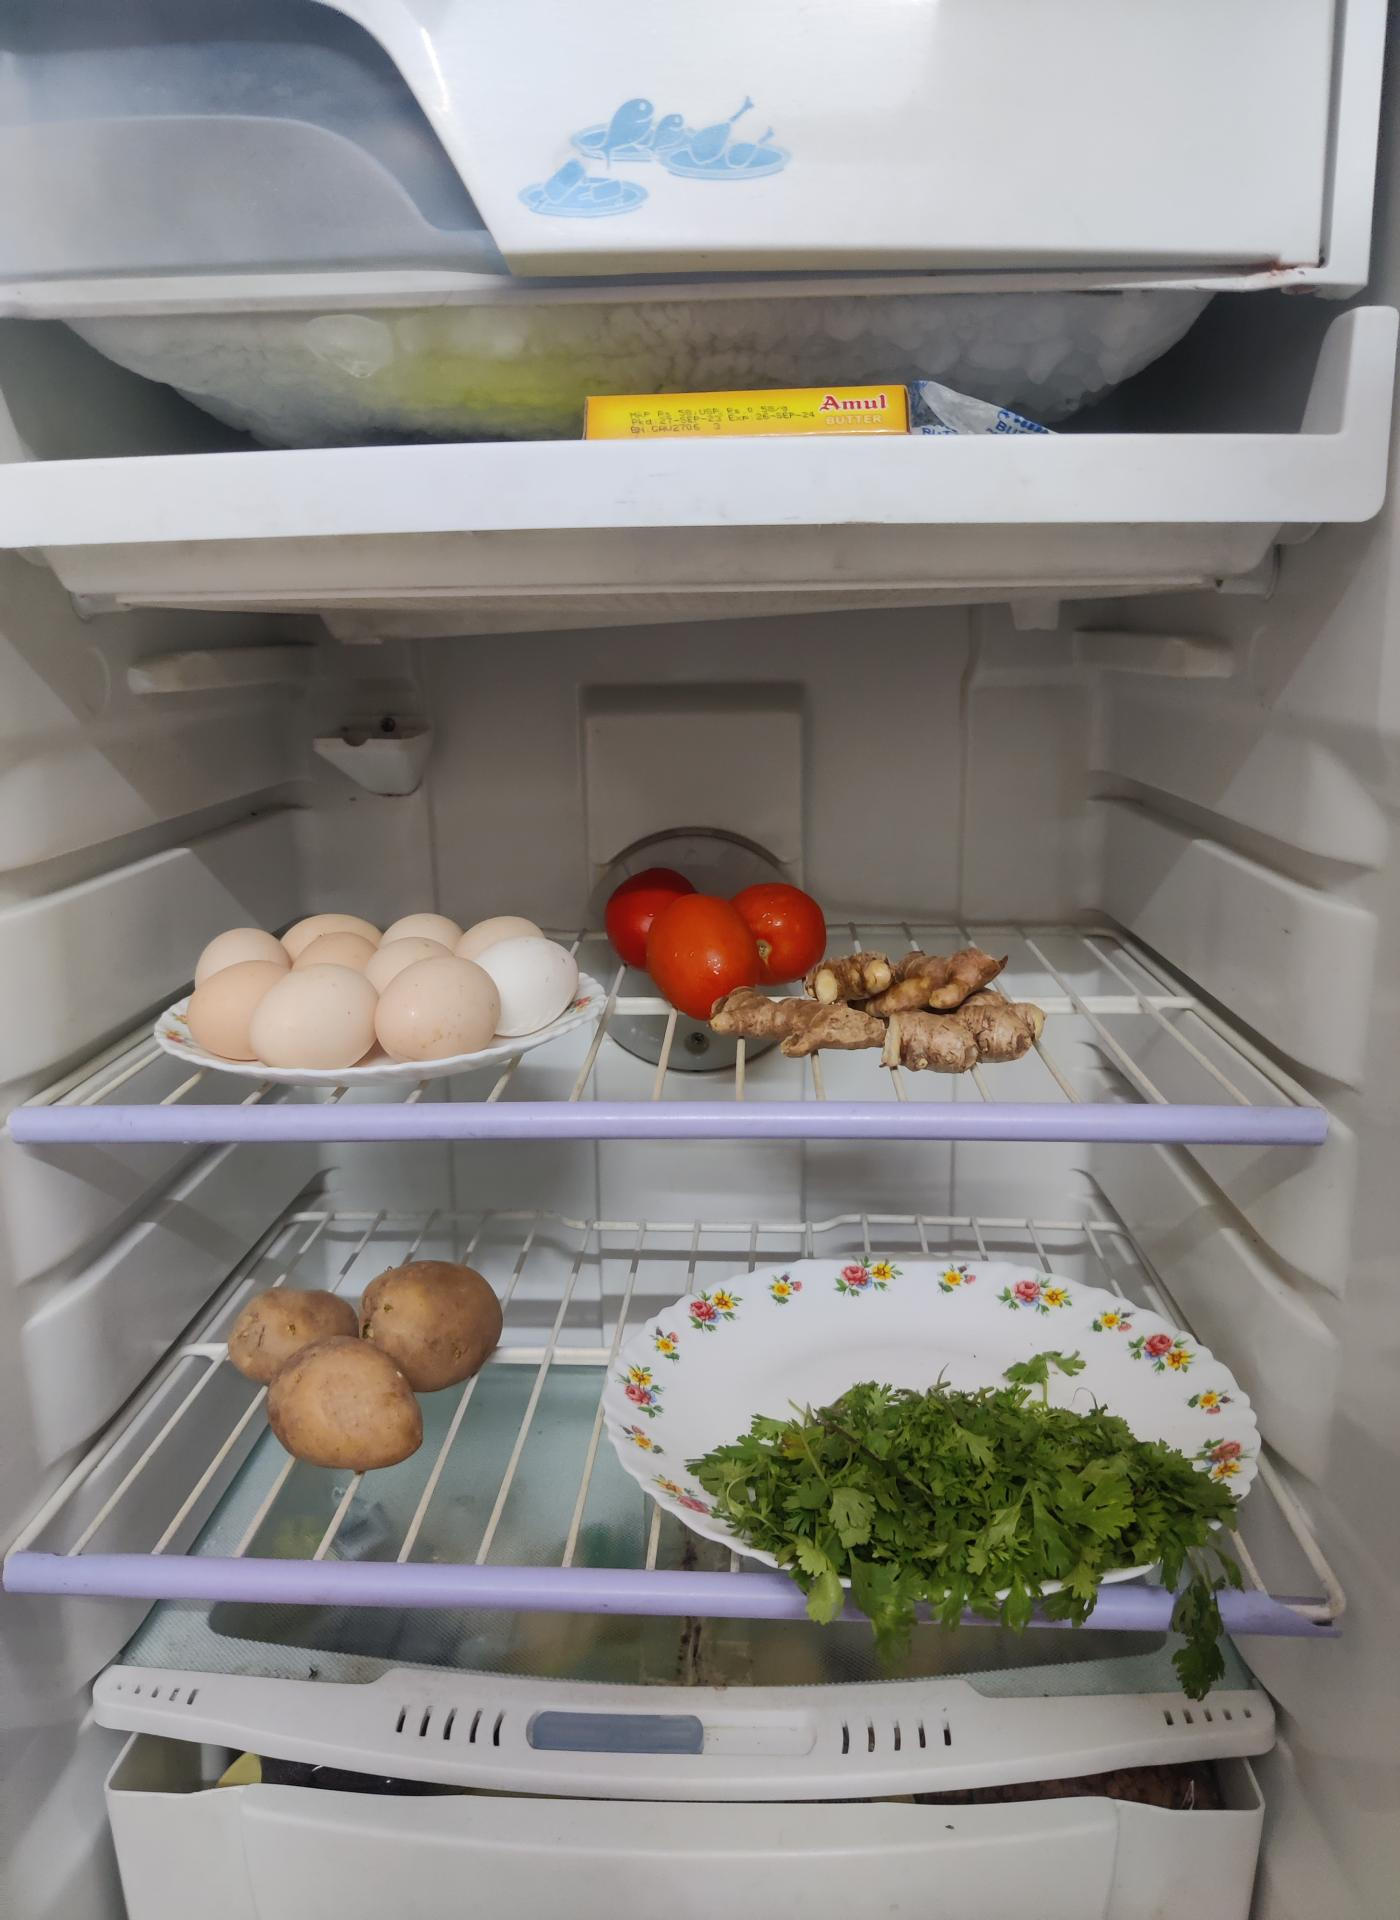coriander: (675, 1377, 1240, 1628)
egg: (174, 900, 567, 1066)
ginger: (723, 938, 1044, 1058)
potato: (228, 1252, 505, 1465)
tomato: (604, 865, 824, 1012)
